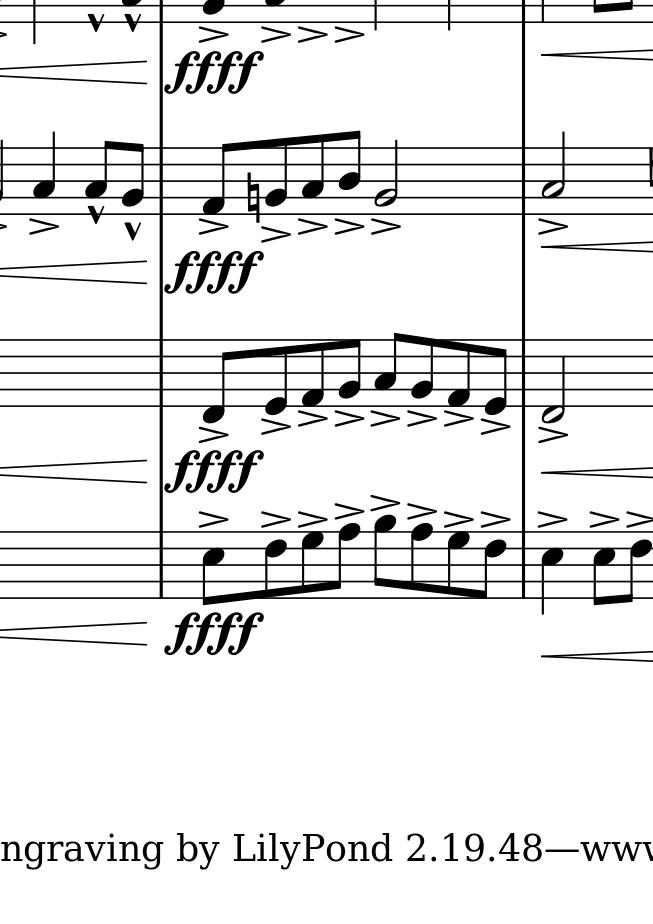2_-1: (539, 340, 568, 421)
2_2: (374, 137, 401, 218)
2_3: (540, 129, 568, 216)
4_3: (31, 129, 57, 214)
4_5: (539, 530, 564, 618)
8_-1: (200, 337, 235, 425)
8_0: (261, 337, 289, 417), (483, 337, 509, 416)
8_1: (200, 141, 236, 218), (445, 337, 472, 410), (300, 337, 326, 409)
8_2: (262, 135, 289, 216), (120, 141, 147, 216), (410, 336, 436, 409), (335, 337, 361, 408)
8_3: (373, 331, 404, 408), (299, 133, 327, 217), (84, 139, 114, 214)
8_4: (336, 129, 362, 216)
8_5: (200, 530, 226, 607), (591, 530, 616, 608)
8_6: (476, 530, 508, 601), (623, 531, 652, 604), (262, 530, 288, 602)
8_7: (299, 529, 325, 600), (445, 529, 470, 600)
8_8: (330, 522, 361, 600), (408, 522, 433, 600)
8_9: (371, 514, 398, 600)
Accent_above: (293, 505, 330, 526), (367, 493, 404, 513), (440, 508, 476, 528), (537, 425, 571, 445), (198, 24, 230, 44), (480, 417, 511, 437), (404, 502, 440, 519), (331, 501, 366, 518), (333, 408, 364, 427), (297, 409, 328, 428), (333, 25, 365, 43), (297, 217, 329, 235), (627, 508, 653, 530), (198, 217, 228, 236), (537, 510, 567, 529), (538, 218, 571, 235), (589, 508, 617, 528), (369, 408, 400, 426), (197, 509, 228, 527), (260, 25, 289, 44), (260, 224, 290, 242), (442, 409, 472, 427), (27, 218, 58, 235), (260, 418, 291, 435), (297, 26, 329, 42), (261, 511, 291, 528), (482, 510, 510, 528), (370, 218, 401, 234), (334, 217, 361, 235), (198, 426, 228, 442), (407, 410, 436, 426)
Marcato_above: (123, 11, 144, 33), (87, 205, 106, 227), (86, 12, 106, 32), (125, 220, 142, 240)
Natural: (245, 171, 261, 224)
Single_barline: (514, 340, 532, 407), (515, 148, 533, 214), (152, 339, 169, 406), (517, 531, 532, 599), (153, 532, 168, 598), (153, 147, 168, 211)
ffff: (162, 444, 269, 497), (162, 46, 268, 98), (163, 245, 269, 297), (162, 608, 266, 659)
